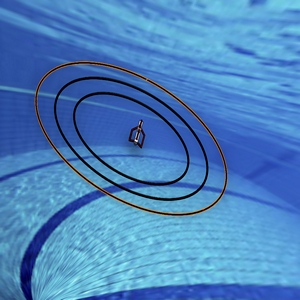circle: (22, 43, 256, 236)
submarine: (122, 111, 153, 155)
